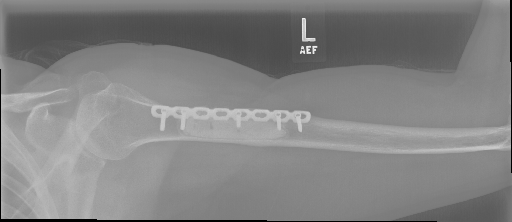implant: (151, 102, 312, 135)
